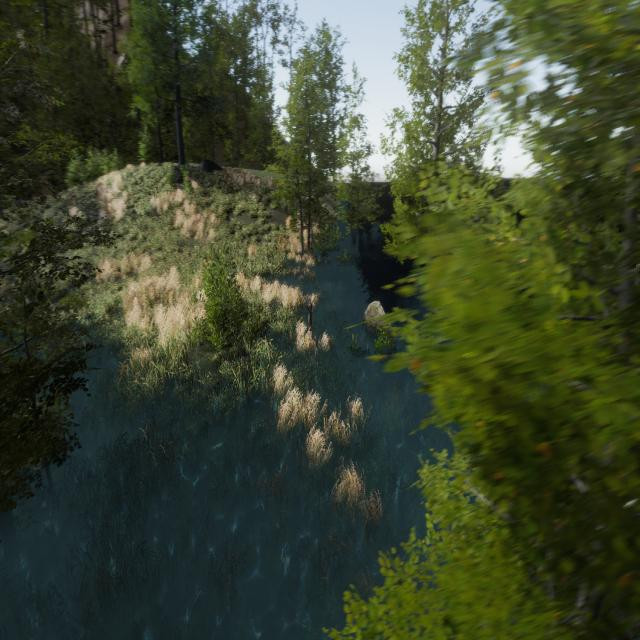Human: (297, 290, 319, 350)
